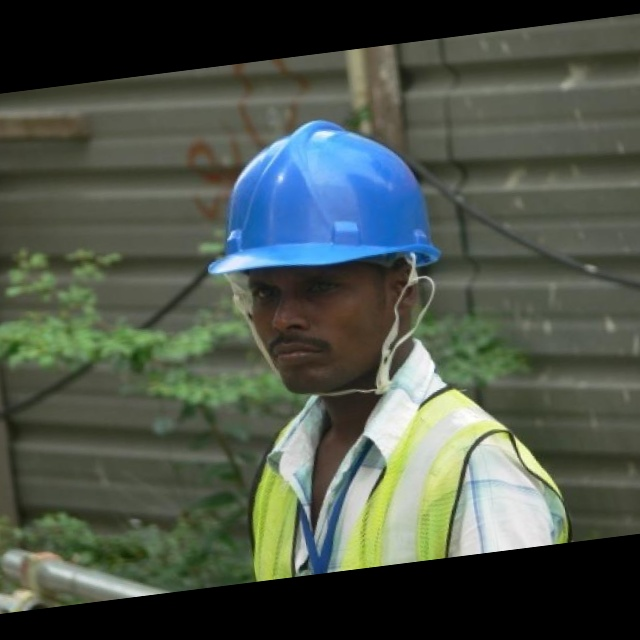Con_Casco: (202, 106, 461, 395)
Con_Chaleco: (226, 374, 570, 583)
